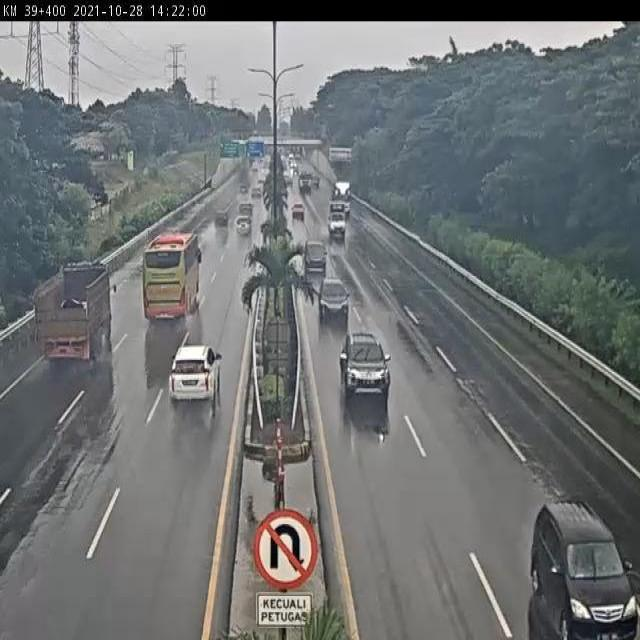big bus: (144, 230, 203, 322)
car: (530, 500, 640, 640), (168, 346, 222, 406)
truck-l-: (34, 261, 114, 363)
truck-s-: (326, 201, 348, 239)
